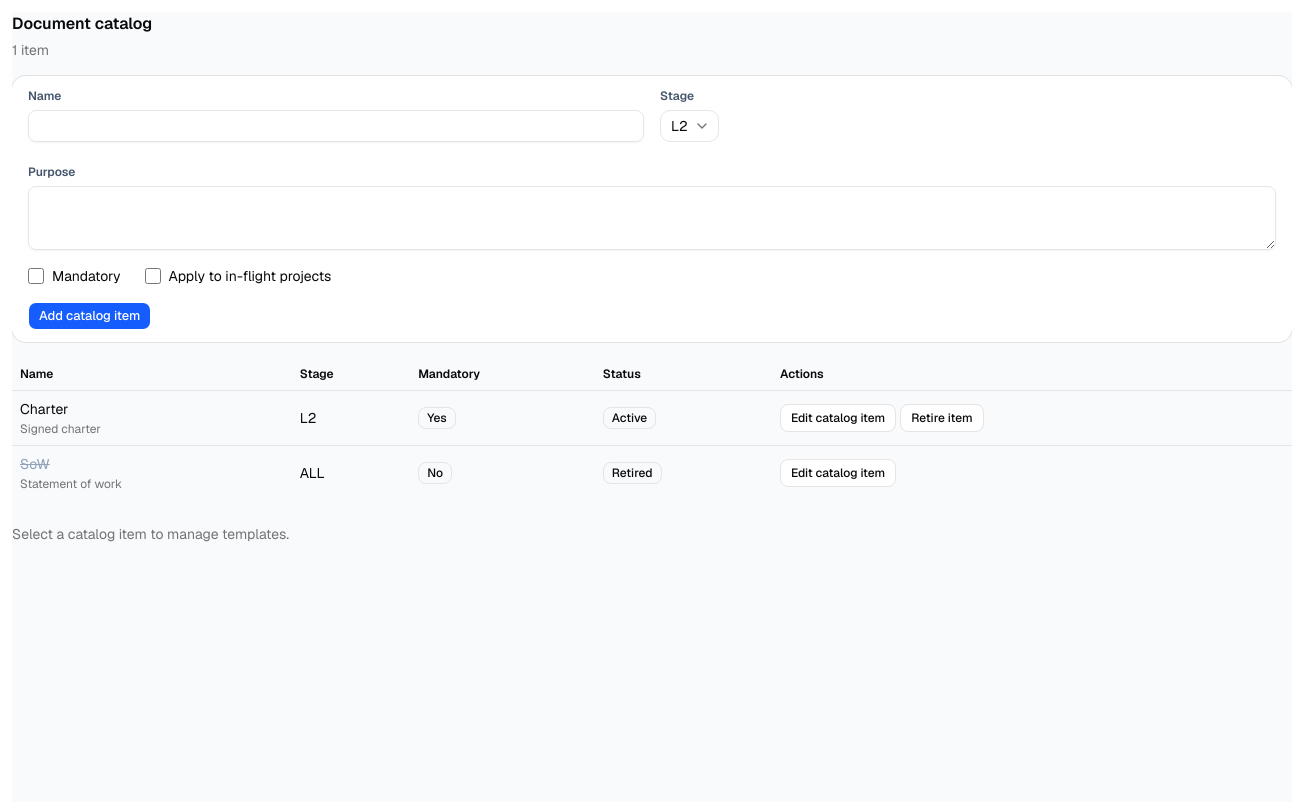
Test: DocumentCatalogPage › templates panel › renders non-HTTPS template URL as plain text without anchor
Click the text "Charter" at (44, 408), box [20,400,68,418]
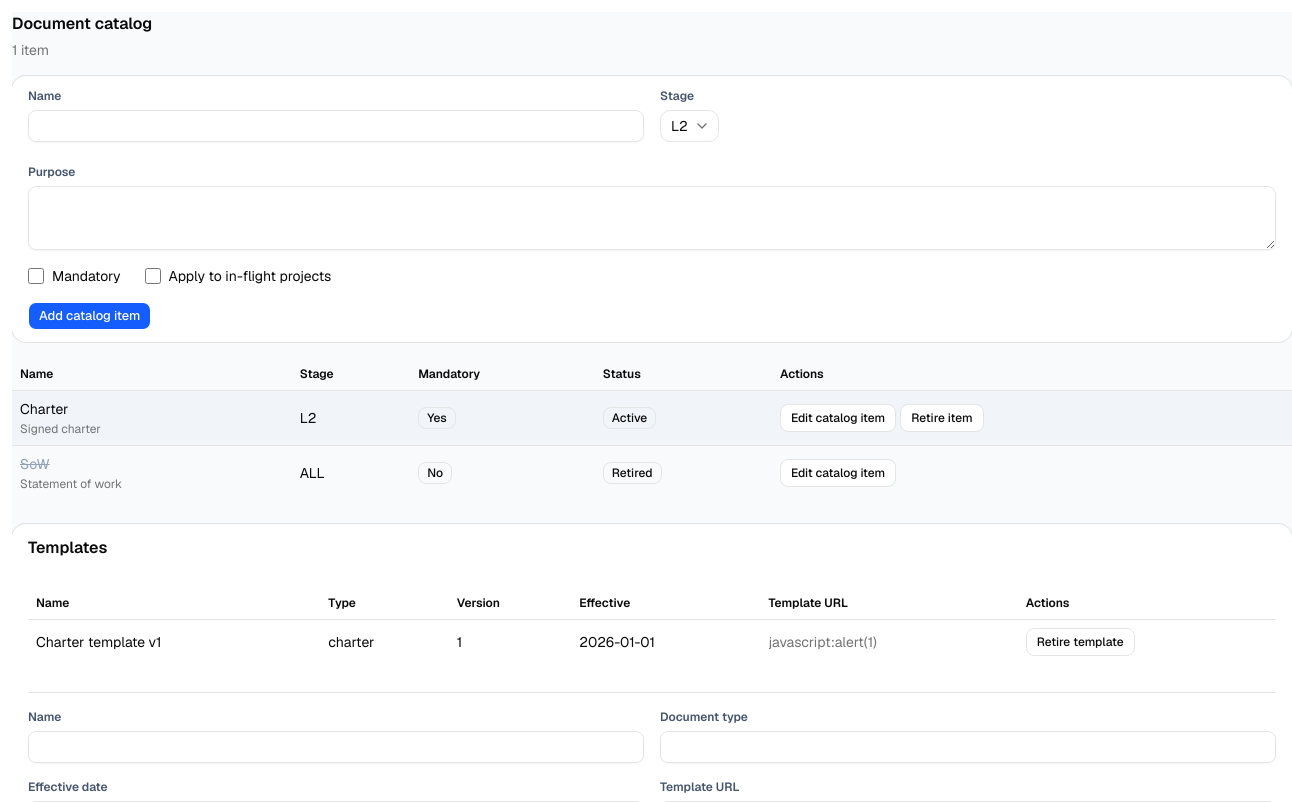
Expected: the text "javascript:alert(1)" is shown, [768,633,877,651]
